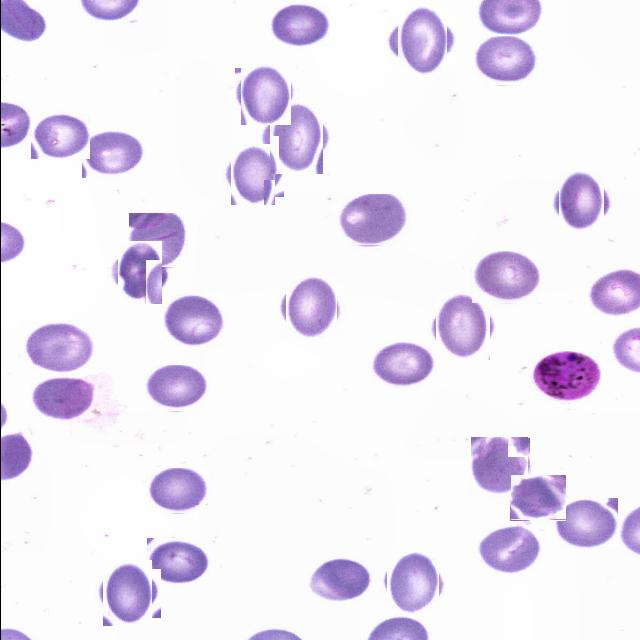red blood cell: (263, 105, 327, 169), (21, 322, 96, 374), (431, 297, 493, 357), (470, 251, 540, 304), (337, 194, 408, 246), (468, 437, 528, 497), (391, 10, 451, 70), (161, 292, 225, 348), (477, 524, 547, 575), (281, 280, 340, 339), (469, 36, 538, 85), (384, 554, 442, 612), (98, 564, 156, 622), (26, 377, 98, 423), (303, 555, 372, 602), (368, 342, 434, 390), (554, 498, 617, 548), (237, 66, 293, 121), (128, 213, 185, 267), (142, 365, 208, 411), (81, 130, 144, 178), (146, 538, 208, 586), (112, 246, 166, 300), (146, 468, 208, 514), (554, 175, 607, 228), (226, 148, 278, 202), (30, 113, 89, 159), (268, 2, 329, 46), (509, 474, 565, 520)
trophozoite: (530, 351, 600, 404)
